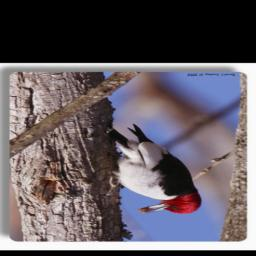Woodpecker: (105, 125, 202, 214)
